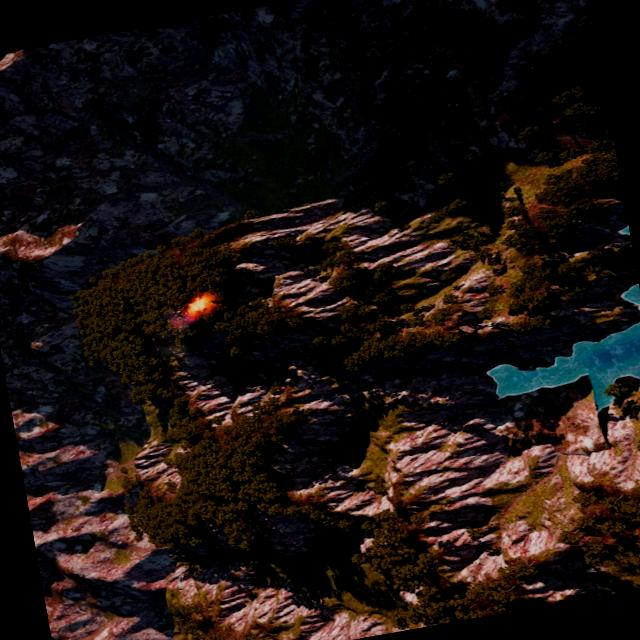fire: (184, 291, 217, 318)
